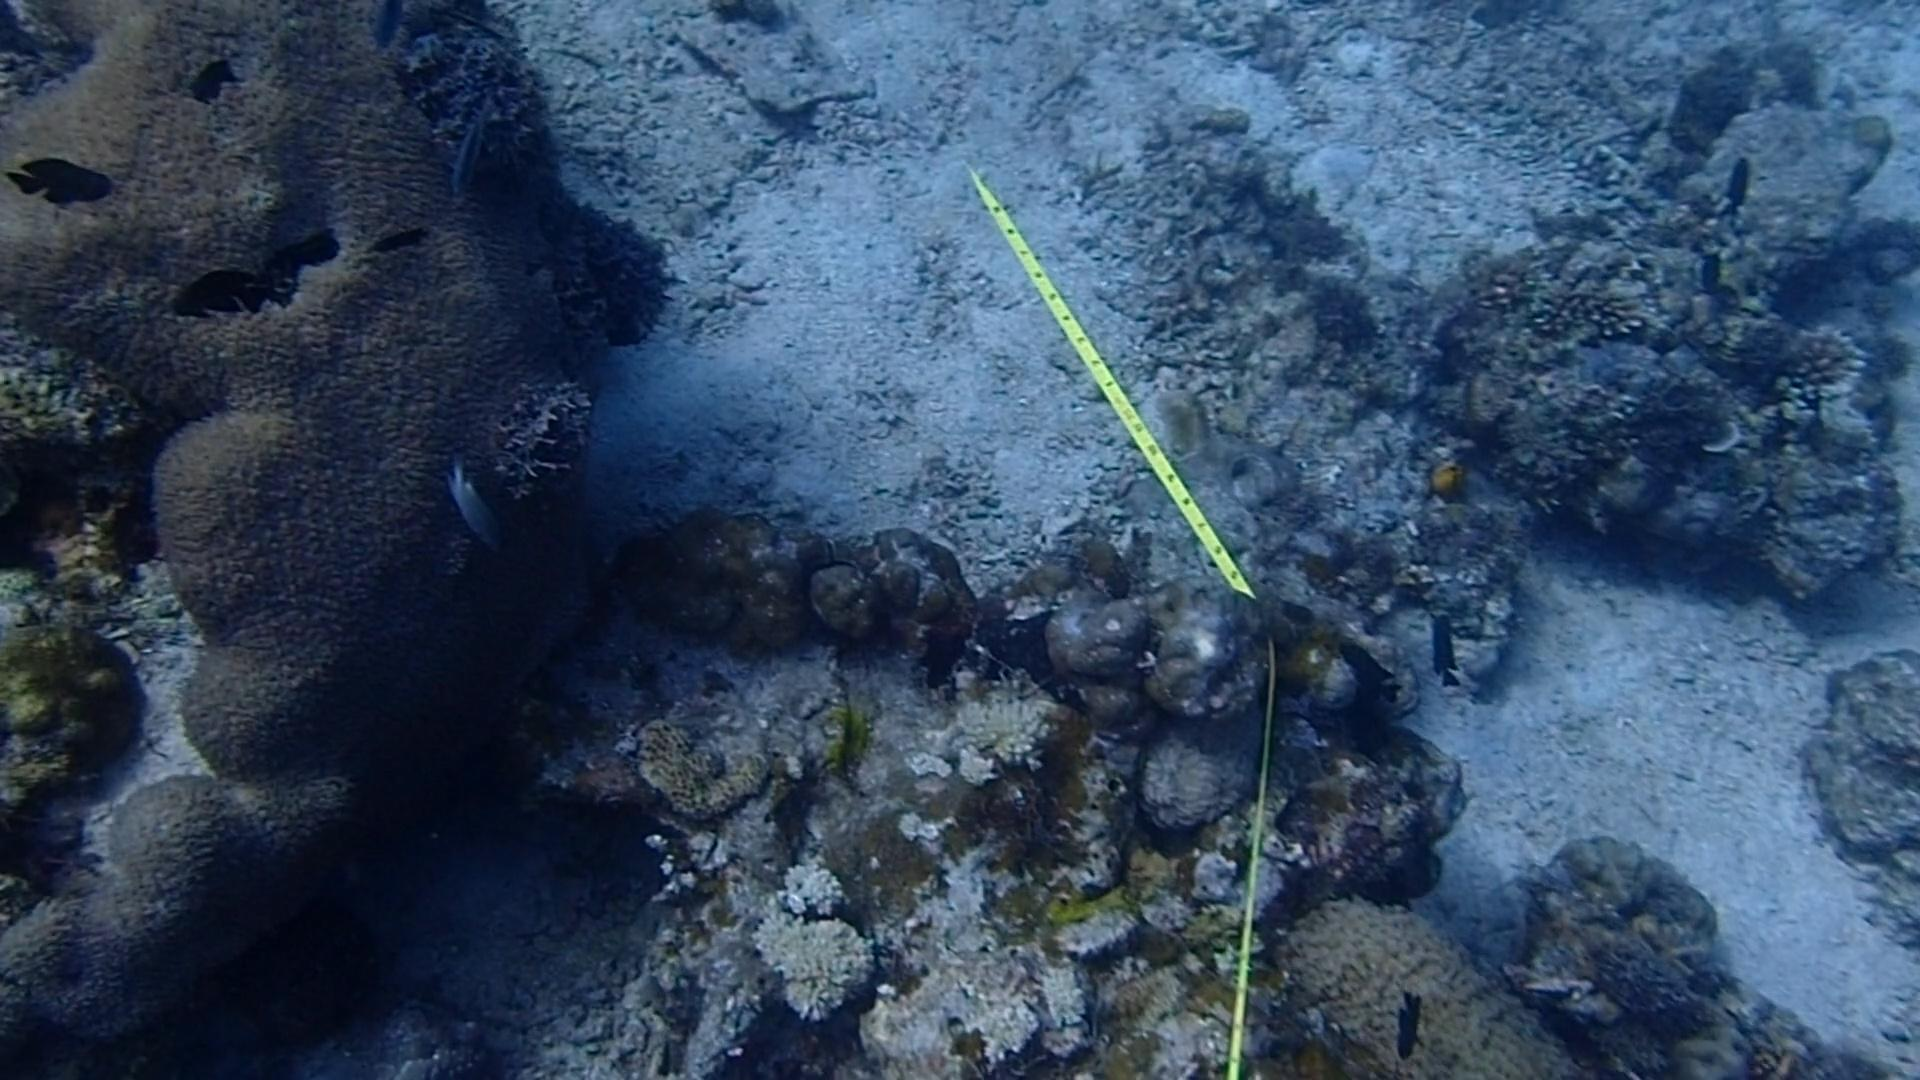Dark Fish: (157, 260, 285, 340), (0, 149, 135, 215), (1530, 980, 1615, 1068), (1371, 975, 1448, 1071), (1324, 629, 1411, 712), (1407, 603, 1473, 699), (162, 46, 252, 112), (1716, 138, 1767, 223), (1688, 244, 1741, 307), (376, 216, 430, 277)
Light Fish: (433, 87, 508, 215), (435, 459, 514, 554)
